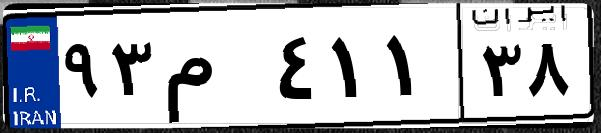1: (385, 28, 445, 110), (330, 28, 385, 110)
3: (475, 38, 525, 113), (110, 28, 158, 98)
4: (270, 28, 330, 110)
8: (525, 38, 570, 115)
9: (57, 26, 110, 100)
م: (158, 20, 270, 120)
